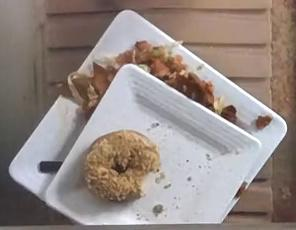dessert: (83, 129, 158, 200)
taco_mix: (67, 40, 215, 116)
